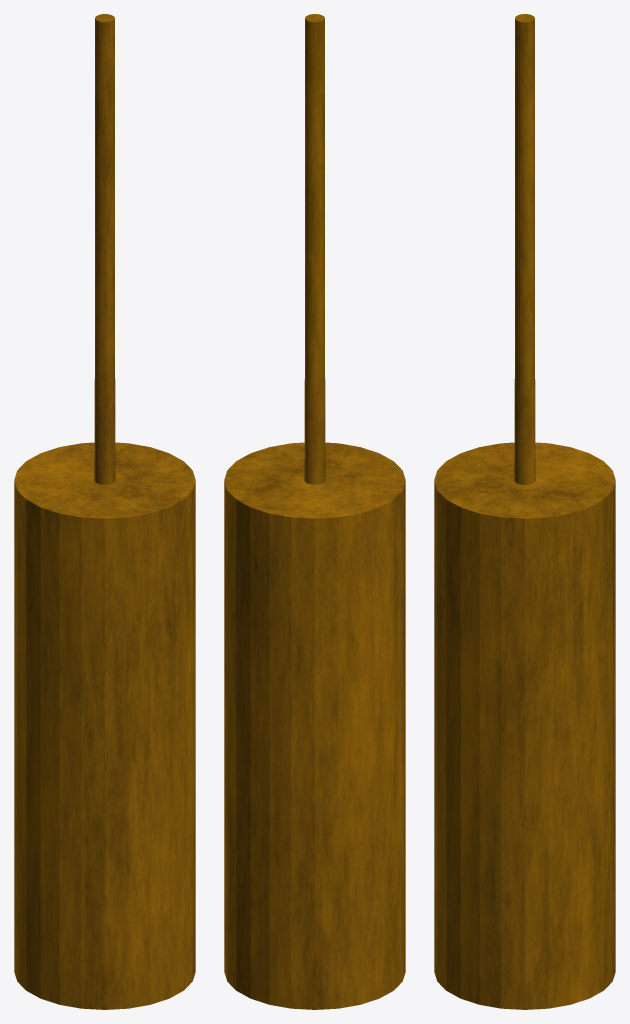
The model's file is pendulum_r.fbx.
3 views of the same model, side by side, from view 1: azimuth 30°, elevation 25°; view 2: azimuth 150°, elevation 25°; view 3: azimuth 270°, elevation 25° (orthographic).
Visible parts, largest first — view 1: pendulum_r_Baked; view 2: pendulum_r_Baked; view 3: pendulum_r_Baked.
Part boxes in pixels (bbox=[...]): pendulum_r_Baked: bbox=[14, 14, 195, 1009]; pendulum_r_Baked: bbox=[224, 14, 405, 1009]; pendulum_r_Baked: bbox=[434, 14, 615, 1009].
Size of the model in its own units: 9.54 by 55.63 by 9.54.
Materials: 1 (1 with a texture image).
